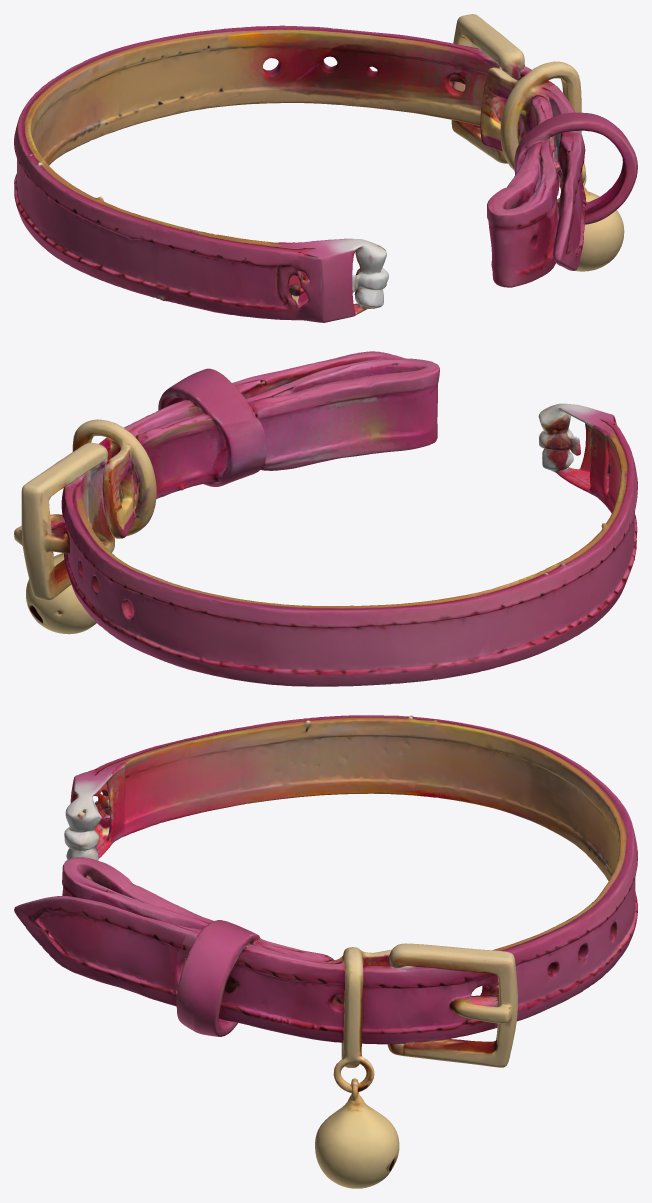
File: producto2.fbx
3 renders of one model, top to bottom at view 1: azimuth 30°, elevation 25°; view 2: azimuth 150°, elevation 25°; view 3: azimuth 270°, elevation 25°, orthographic.
Parts seen in each view (by area): view 1: tripo_node_c9153d61; view 2: tripo_node_c9153d61; view 3: tripo_node_c9153d61.
Boxes of the visible parts, x1,y1,x2,y2 form: tripo_node_c9153d61: [14, 14, 637, 322]; tripo_node_c9153d61: [14, 351, 637, 686]; tripo_node_c9153d61: [14, 715, 637, 1188].
Size of the model in its own units: 1 by 0.3721 by 0.9493.
1 material, 1 textured.
